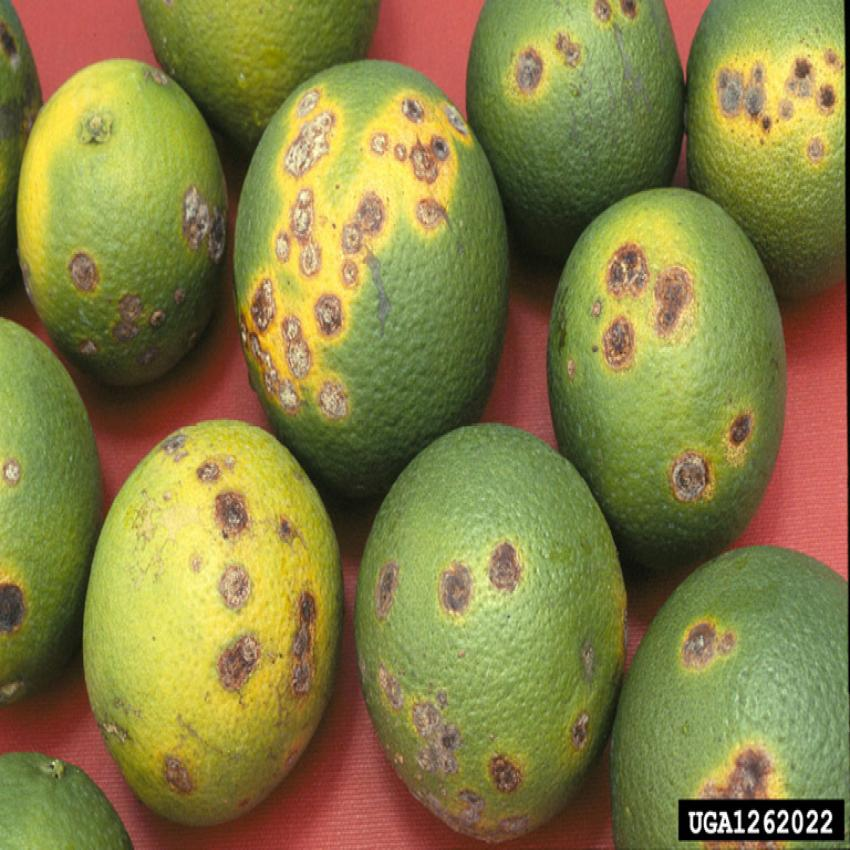Mal estado: (231, 60, 516, 490), (352, 411, 632, 839), (76, 414, 346, 832), (530, 181, 797, 583), (605, 531, 849, 841), (23, 49, 231, 386), (452, 0, 686, 261), (683, 0, 848, 312), (0, 305, 98, 717)
